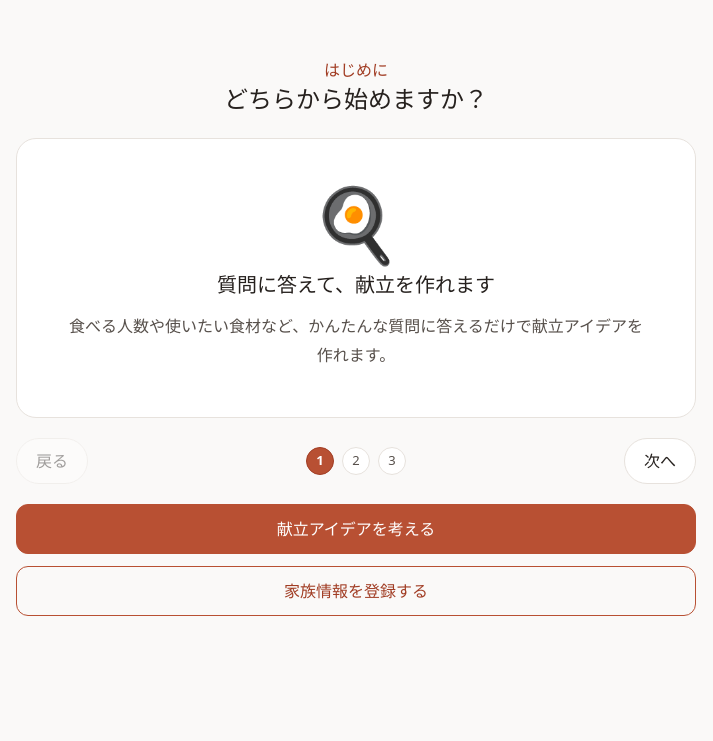
Test: L11: pending exposes status region and marks main busy
The width and height of the screenshot is (713, 741).
Click the button "献立アイデアを考える" at [356, 529], box x1=16 y1=504 x2=696 y2=554
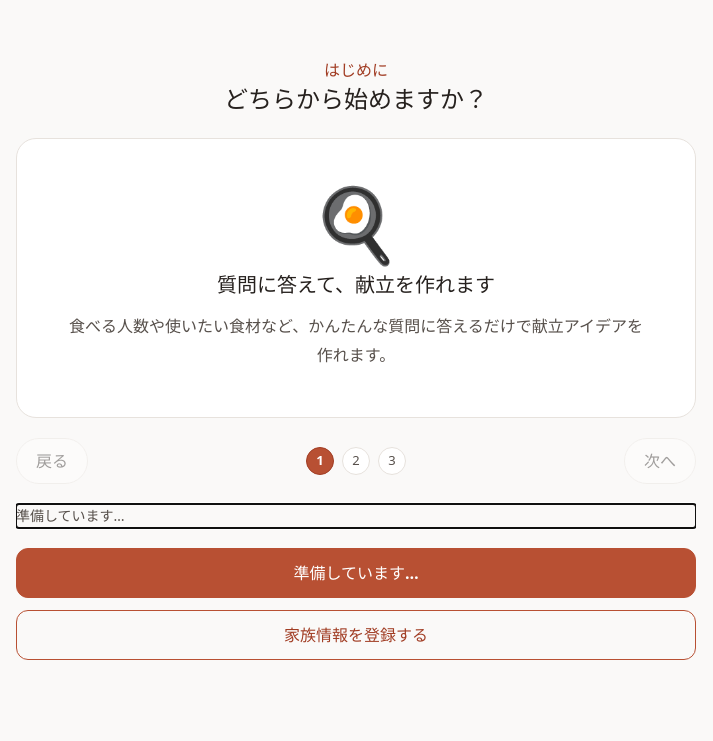
Expected: the message reads "準備しています…", x1=16 y1=506 x2=125 y2=525
